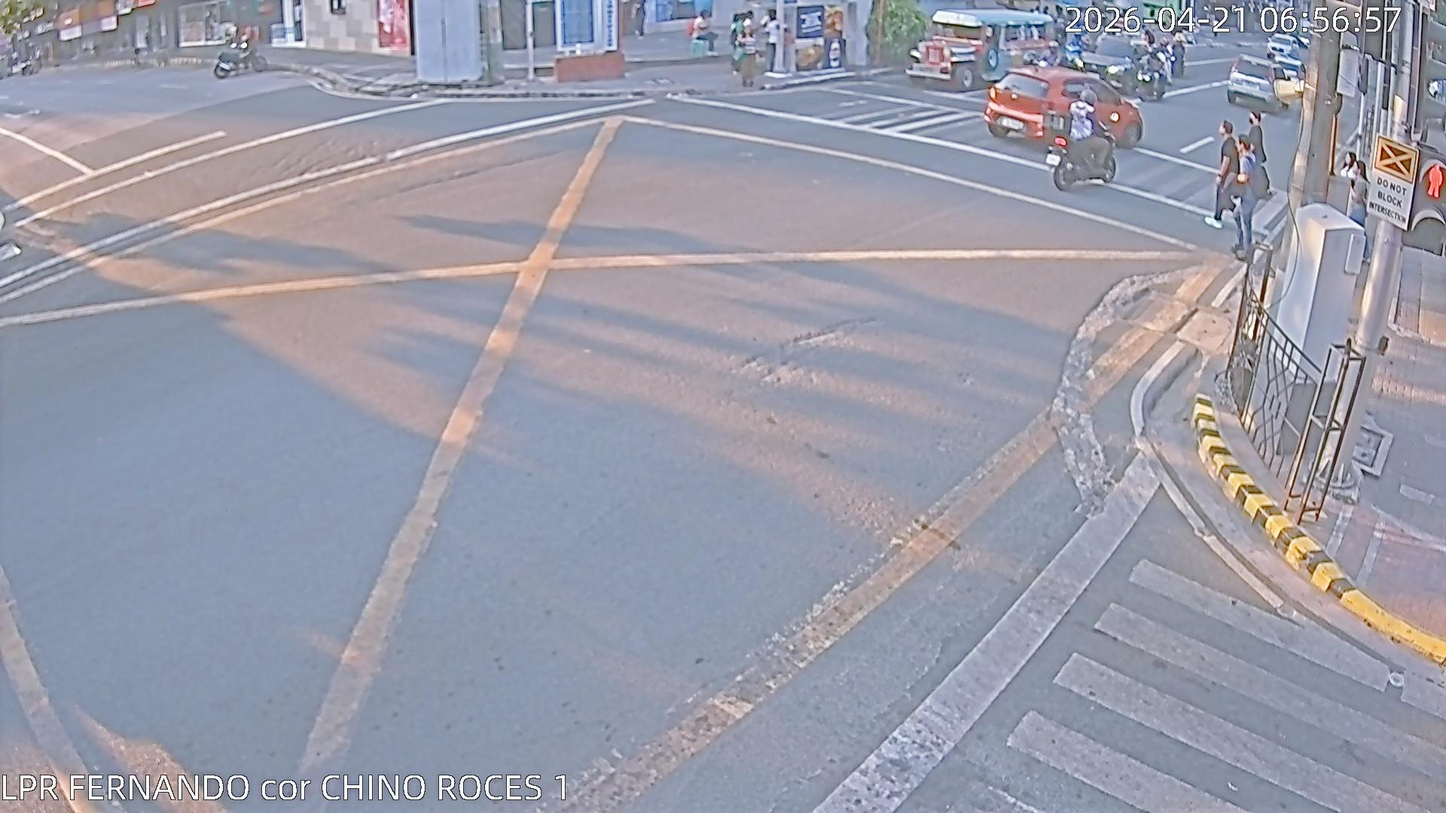Car: (985, 73, 1147, 155), (1071, 27, 1167, 110), (1225, 37, 1298, 119)
Motor: (1051, 91, 1115, 205), (206, 6, 287, 89)
